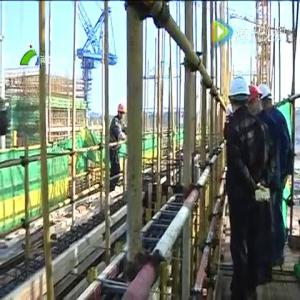red: (247, 83, 262, 112)
white: (228, 75, 250, 111), (259, 84, 274, 109)
yellow: (117, 103, 126, 120)
